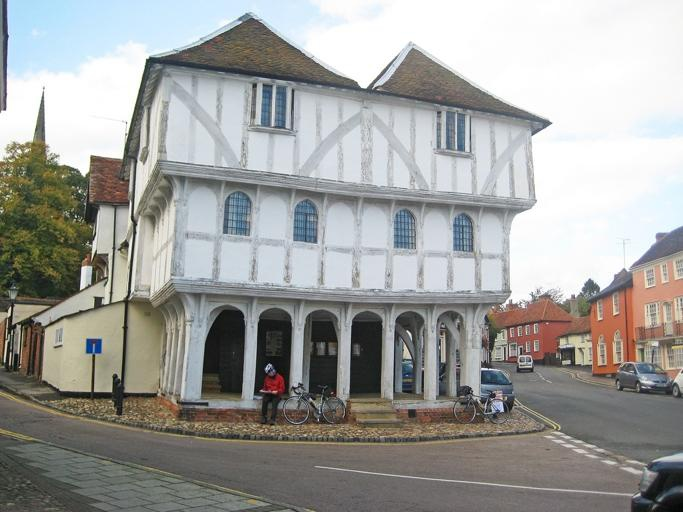non-vehicle: (282, 380, 346, 425), (449, 384, 509, 425)
